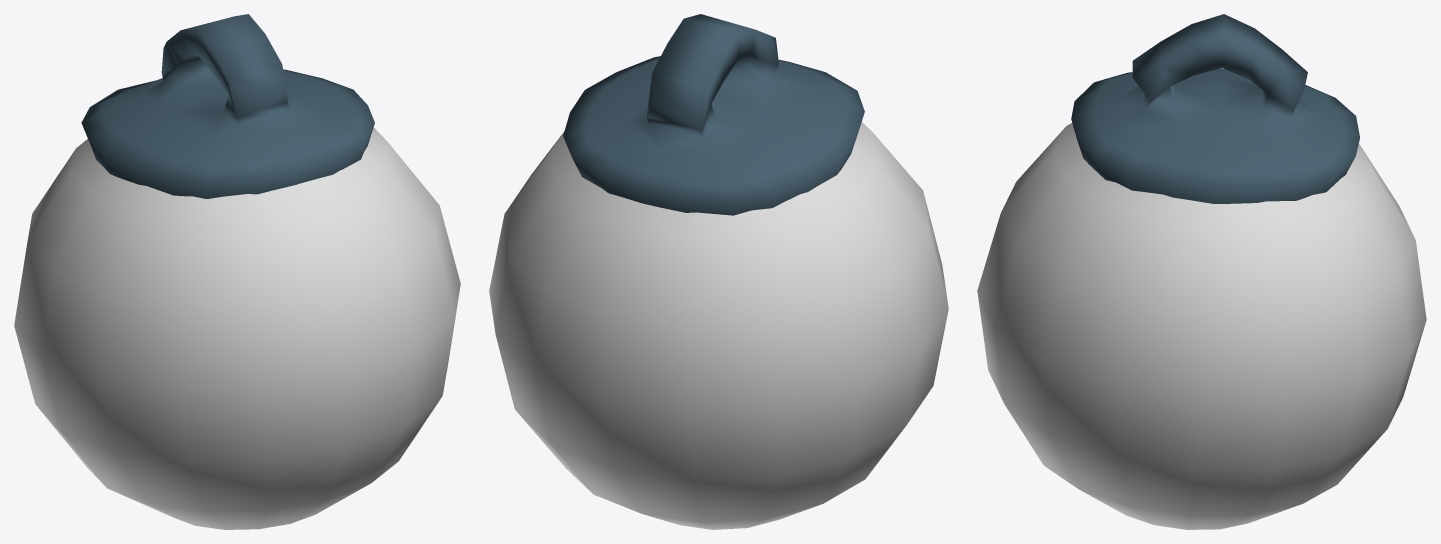
File: ME_ChristmasTreeBall01.fbx
3 views of the same model, side by side, from view 1: azimuth 30°, elevation 25°; view 2: azimuth 150°, elevation 25°; view 3: azimuth 270°, elevation 25° (orthographic). The views are drawn at different scales.
Visible parts, largest first — view 1: ME_ChristmasTreeBall01; view 2: ME_ChristmasTreeBall01; view 3: ME_ChristmasTreeBall01.
Part boxes in pixels (x1=…): ME_ChristmasTreeBall01: x1=14, y1=14, x2=460, y2=529; ME_ChristmasTreeBall01: x1=489, y1=14, x2=948, y2=529; ME_ChristmasTreeBall01: x1=977, y1=14, x2=1426, y2=529.
Size of the model in its own units: 0.4918 by 0.5782 by 0.4905.
